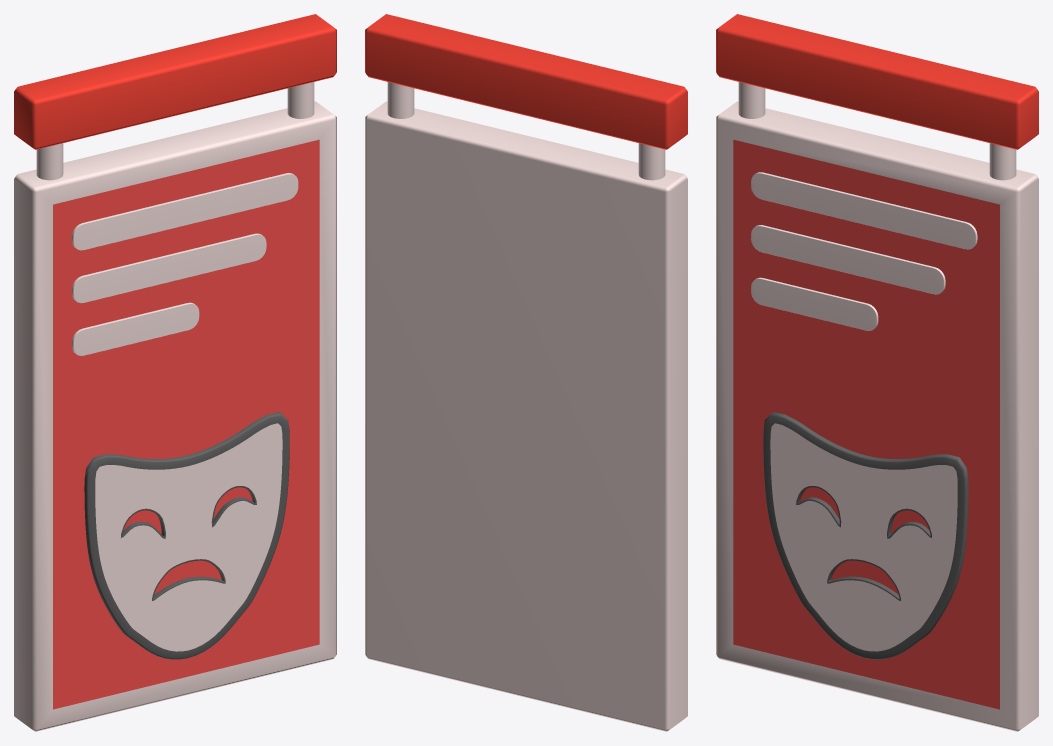
The model's file is Public_12_Theatre_Poster_1.glb.
3 renders of one model, left to right at view 1: azimuth 30°, elevation 25°; view 2: azimuth 150°, elevation 25°; view 3: azimuth 330°, elevation 25°, orthographic.
Parts seen in each view (by area): view 1: Public_12_Theatre_Poster_1; view 2: Public_12_Theatre_Poster_1; view 3: Public_12_Theatre_Poster_1.
Boxes of the visible parts, x1=… form: Public_12_Theatre_Poster_1: x1=14, y1=14, x2=336, y2=731; Public_12_Theatre_Poster_1: x1=365, y1=14, x2=687, y2=731; Public_12_Theatre_Poster_1: x1=716, y1=14, x2=1038, y2=731.
Bounding box in the file's own units: 1.38 × 2.73 × 0.1894.
Materials: 1 (1 with a texture image).
